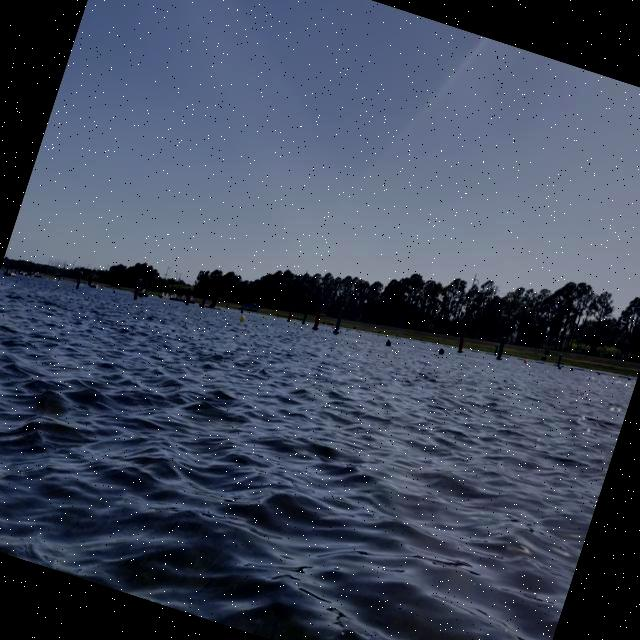buoy: (238, 312, 245, 324), (437, 346, 445, 356), (386, 338, 392, 348)
